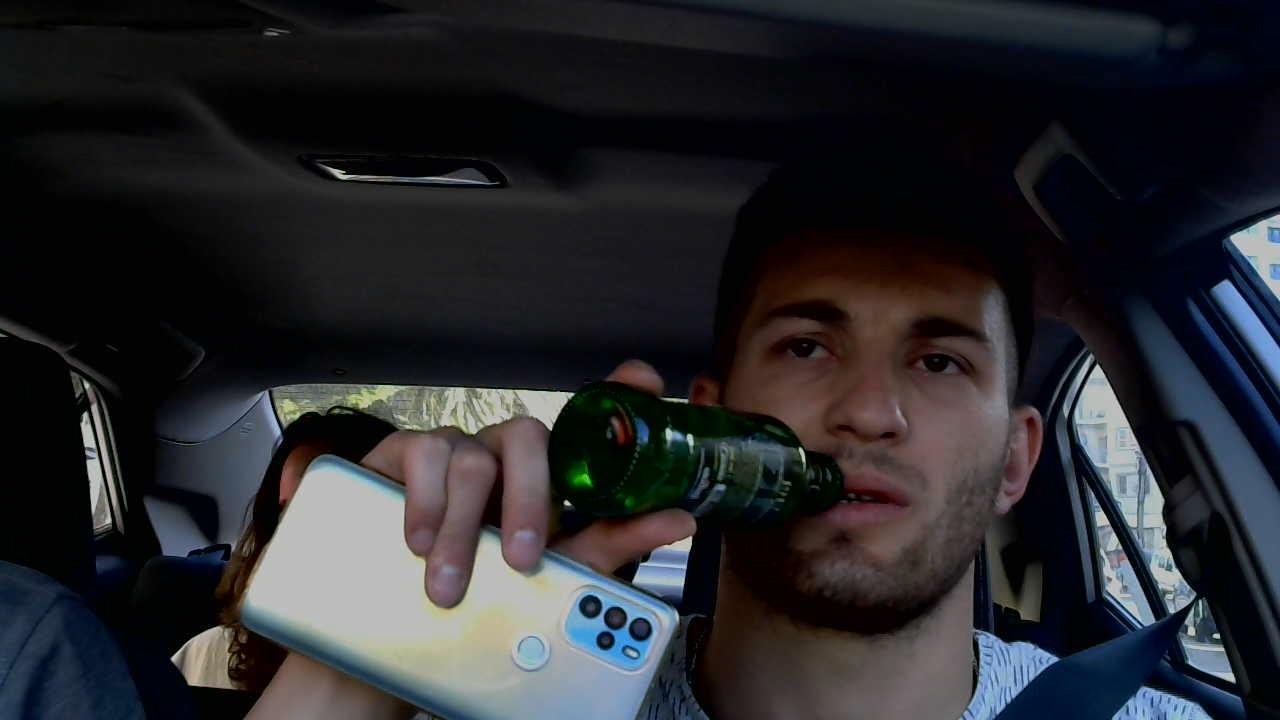Drinking: (551, 235, 1049, 552)
